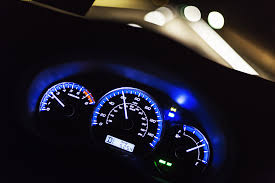Digital_Meter: (102, 130, 142, 157)
